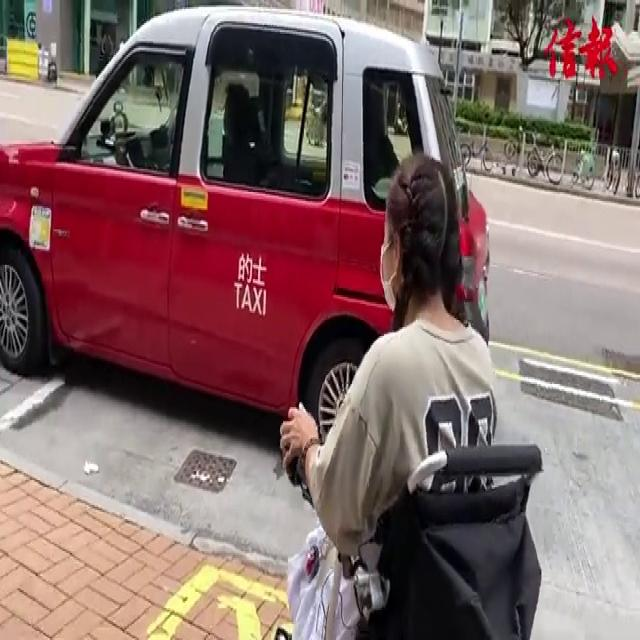wheelchairs: (273, 365, 551, 640)
